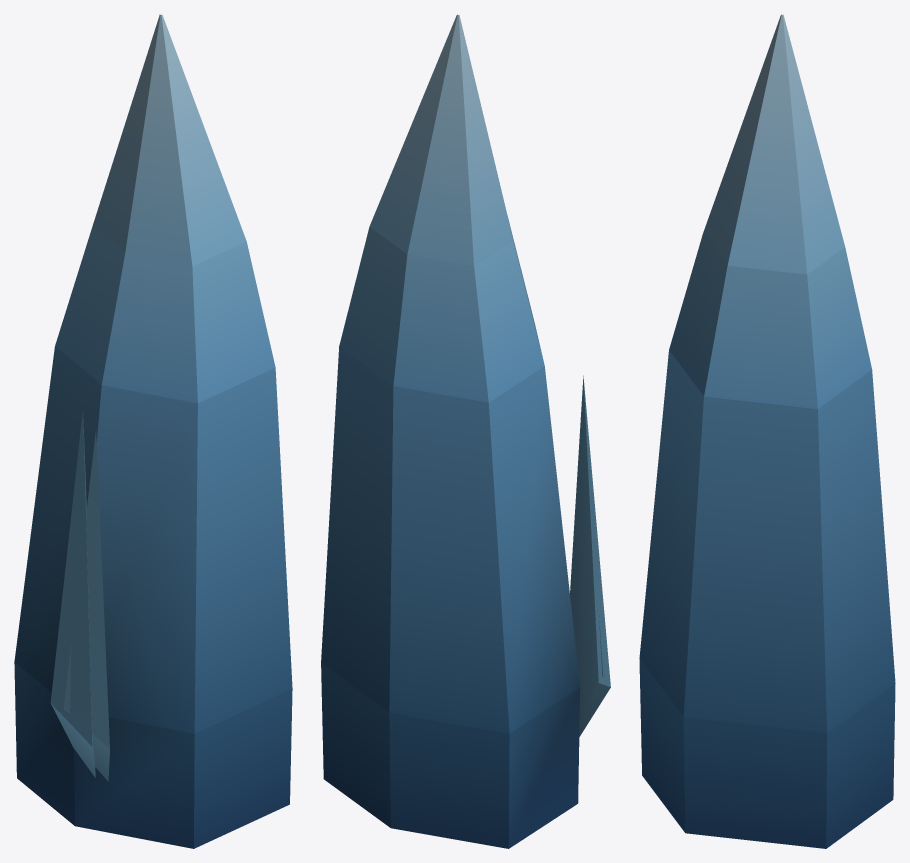
File: ice.shard-v1.glb
The picture shows the model from 3 angles, left to right: view 1: azimuth 30°, elevation 25°; view 2: azimuth 150°, elevation 25°; view 3: azimuth 270°, elevation 25°; orthographic projection.
Visible parts, largest first — view 1: ice.shard; view 2: ice.shard; view 3: ice.shard.
Boxes of the visible parts, x1,y1,x2,y2 form: ice.shard: [14, 14, 292, 848]; ice.shard: [321, 14, 610, 848]; ice.shard: [639, 14, 895, 848].
Size of the model in its own units: 0.4542 by 1.4 by 0.4168.
